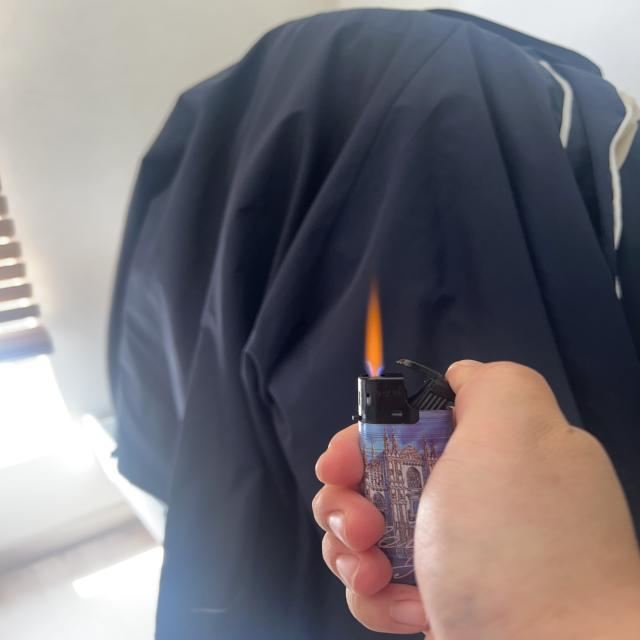fire: (364, 283, 390, 373)
